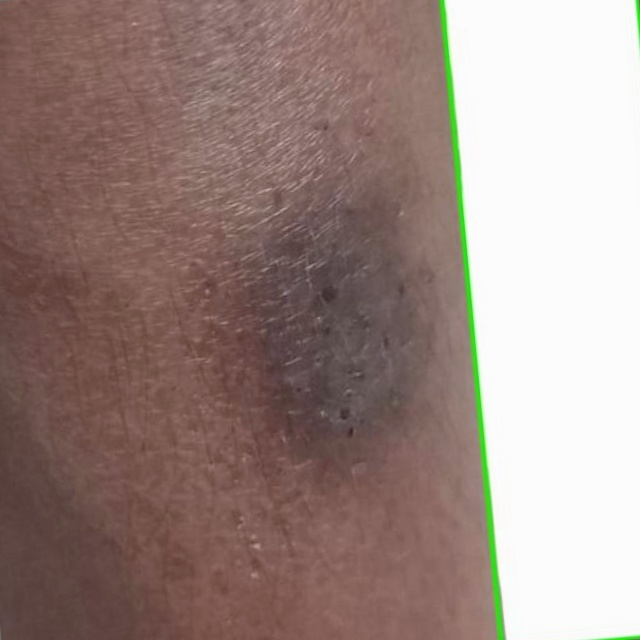Eczema: (442, 0, 639, 639)
